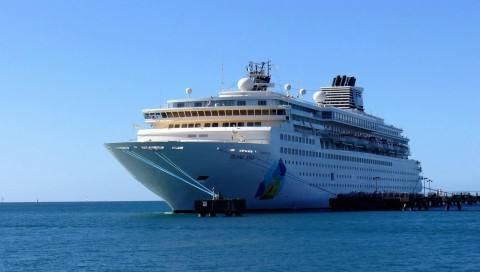youlun: (100, 57, 429, 214)
